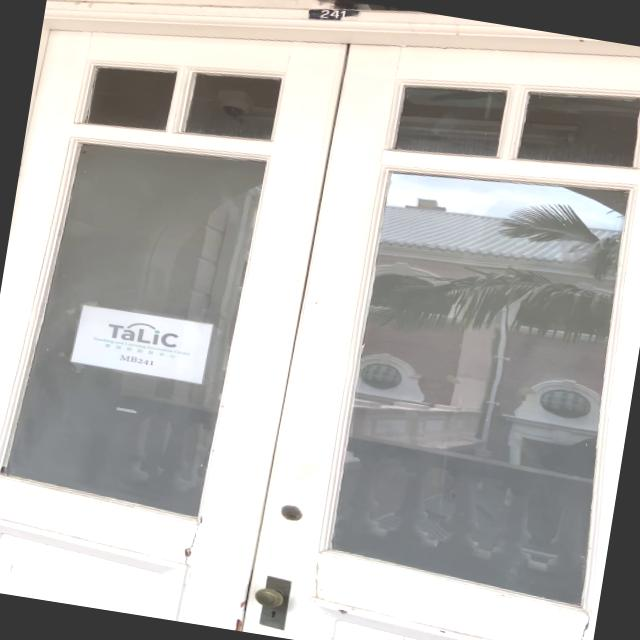room241: (306, 1, 364, 30)
